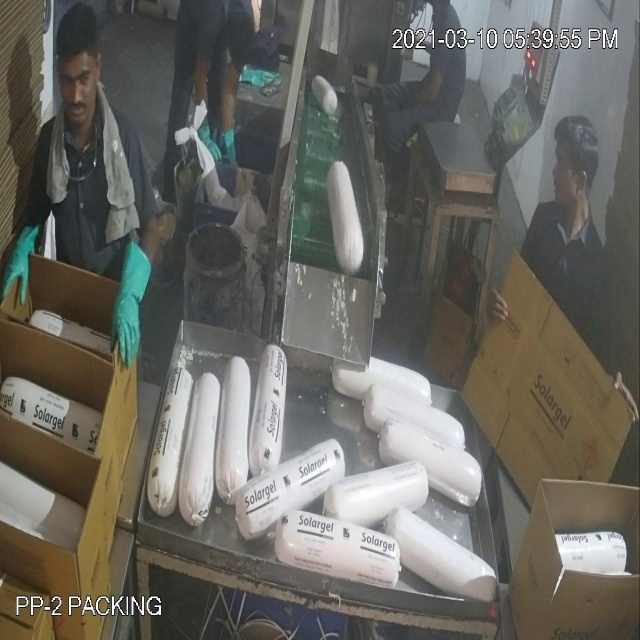Guantes: (107, 236, 155, 379), (0, 214, 48, 316)
